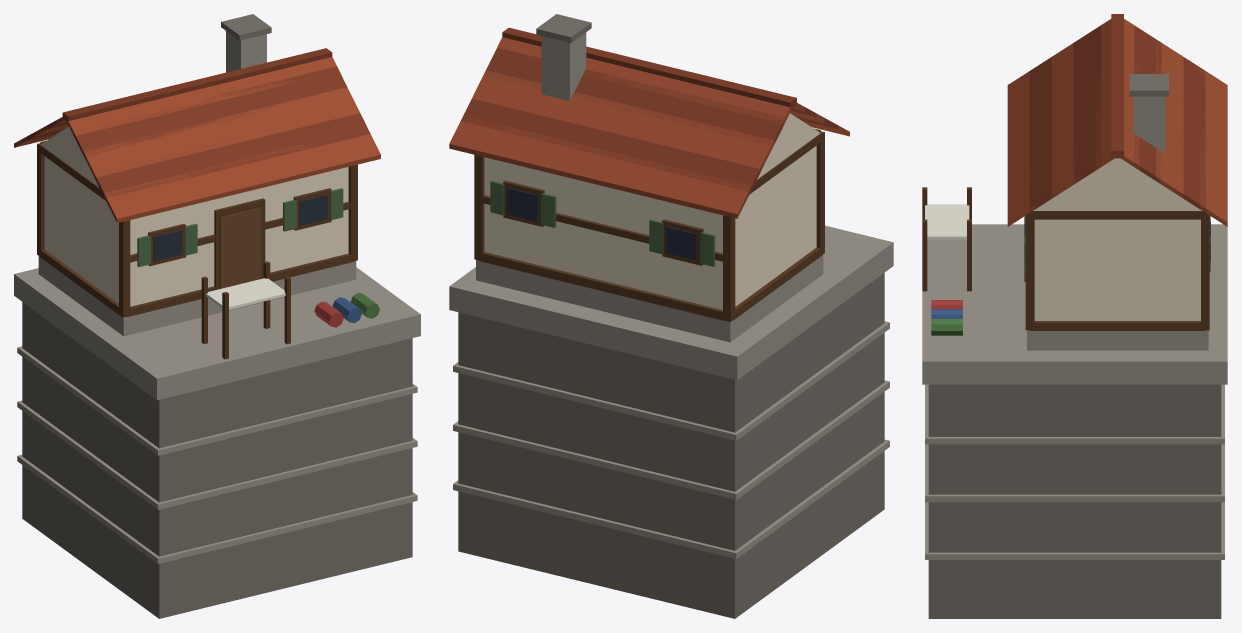
Rendered from weaver.glb.
3 renders of one model, left to right at view 1: azimuth 30°, elevation 25°; view 2: azimuth 150°, elevation 25°; view 3: azimuth 270°, elevation 25°, orthographic. The views are drawn at different scales.
Visible parts, largest first — view 1: weaver; view 2: weaver; view 3: weaver.
Part boxes in pixels (x1,y1,x2,y2): weaver: (14, 14, 420, 618); weaver: (449, 14, 893, 618); weaver: (922, 14, 1227, 618).
Size of the model in its own units: 5.1 by 8.72 by 4.79.
